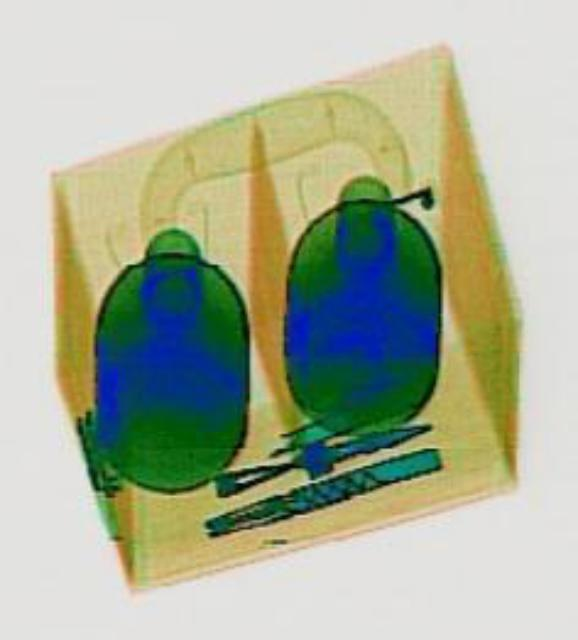Knife: (206, 403, 430, 502)
